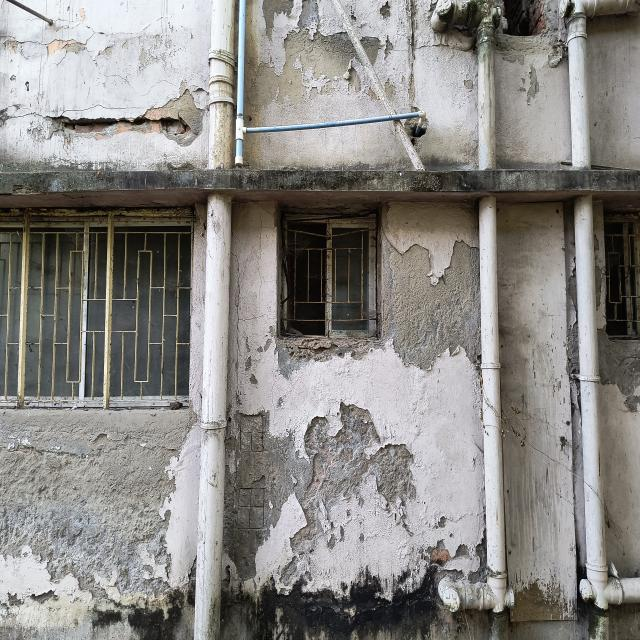peeling: (0, 408, 200, 605), (221, 404, 419, 593), (385, 241, 480, 379), (65, 109, 191, 139), (599, 329, 640, 411), (570, 336, 578, 367)
